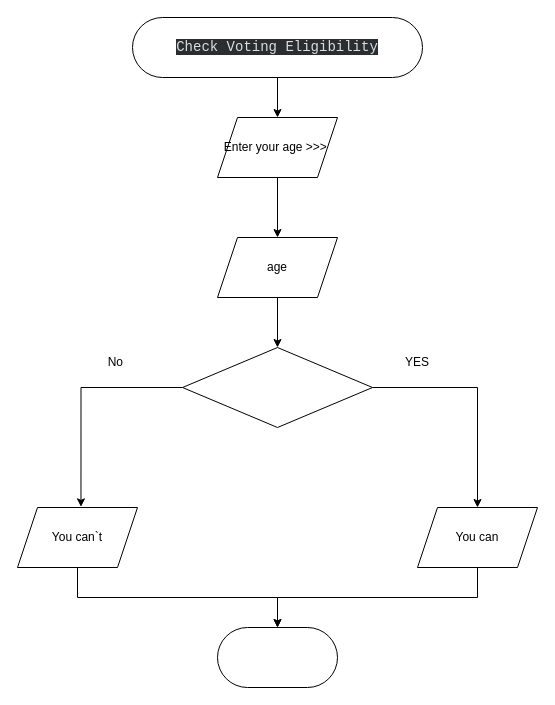
The diagram is 555 pixels wide and 705 high, and some of its shapes have lost their labels. Here are the shapes that lost their labels. From the top down, the centre of each, then its label:
point 277,387: age >= 18
point 277,657: END
